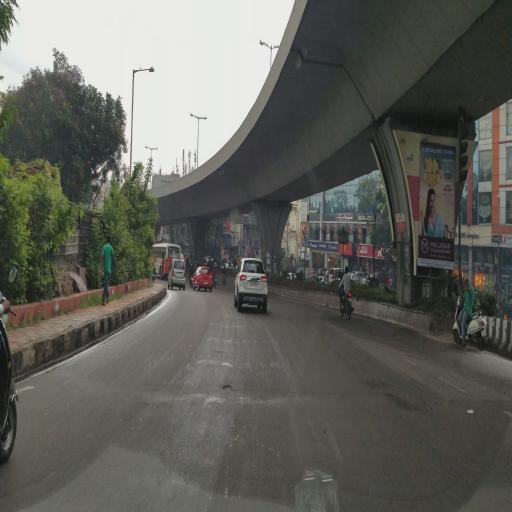street_light_0: (131, 60, 158, 82), (256, 29, 272, 54), (196, 106, 210, 128), (186, 107, 198, 125), (141, 137, 151, 154), (151, 140, 161, 156)
